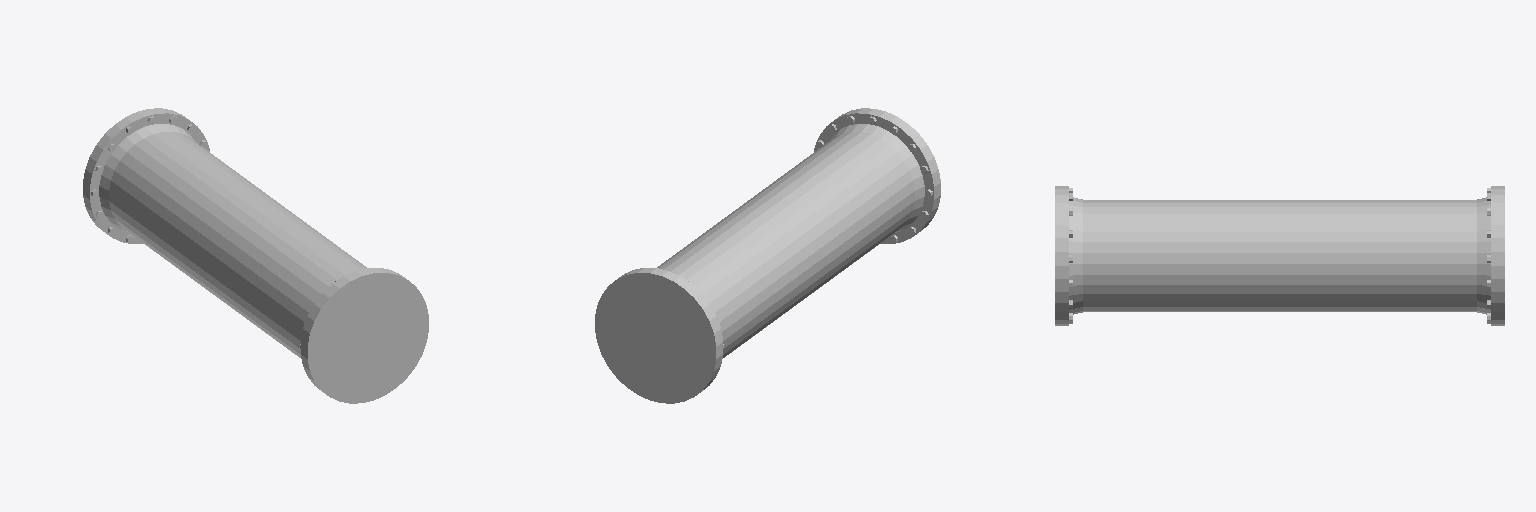
The model's file is pipeworks_straight_pipe.obj.
3 renders of one model, left to right at view 1: azimuth 30°, elevation 25°; view 2: azimuth 150°, elevation 25°; view 3: azimuth 270°, elevation 25°, orthographic.
Visible parts, largest first — view 1: Pipe_Cylinder.002_None; view 2: Pipe_Cylinder.002_None; view 3: Pipe_Cylinder.002_None.
Part boxes in pixels (x1,y1,x2,y2): Pipe_Cylinder.002_None: (83, 108, 428, 403); Pipe_Cylinder.002_None: (595, 108, 940, 403); Pipe_Cylinder.002_None: (1055, 186, 1504, 325).
Bounding box in the file's own units: 0.3125 × 0.3125 × 1.